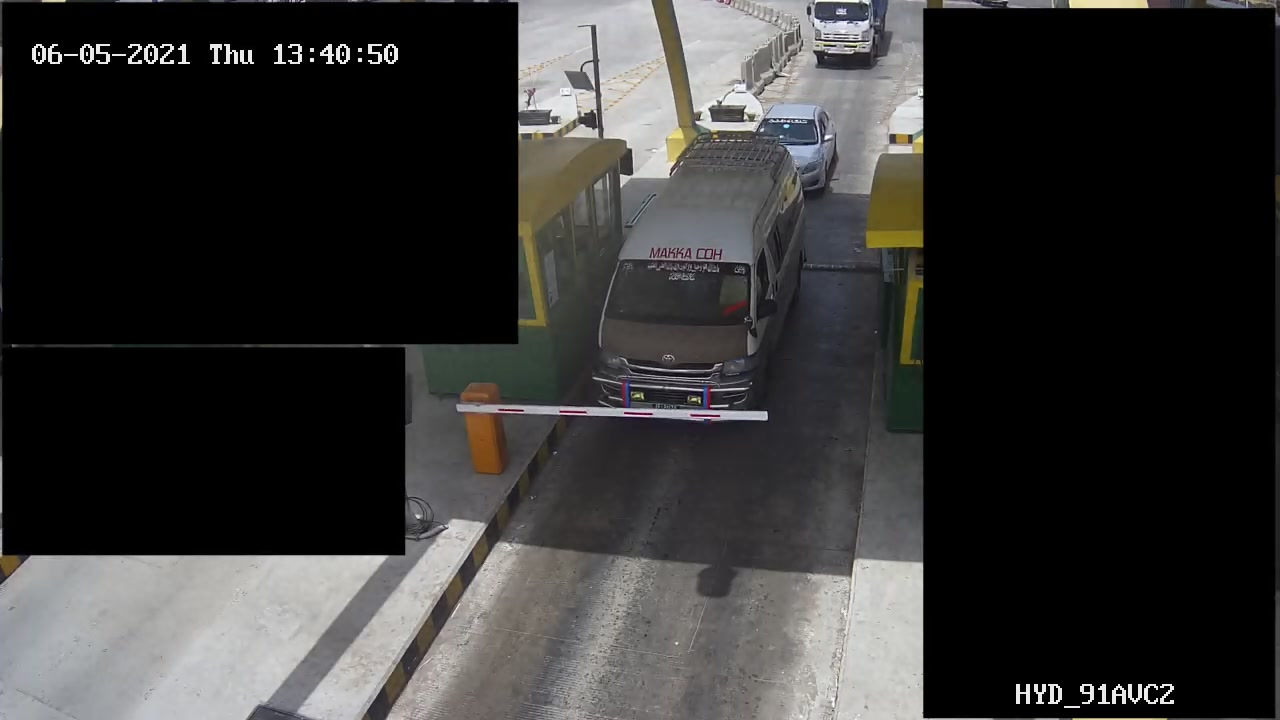F2: (593, 134, 807, 431)
